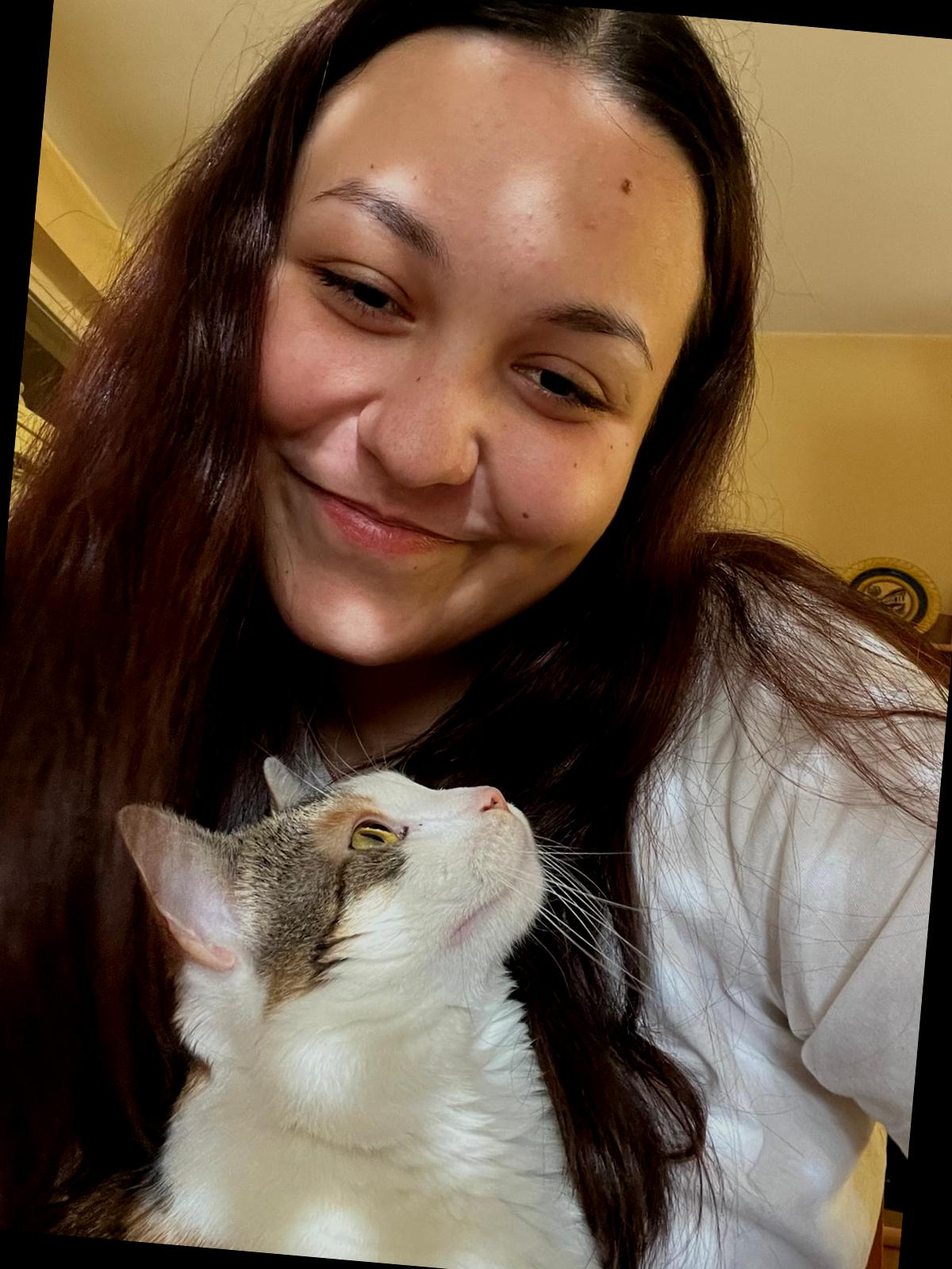macka: (70, 748, 640, 1269)
